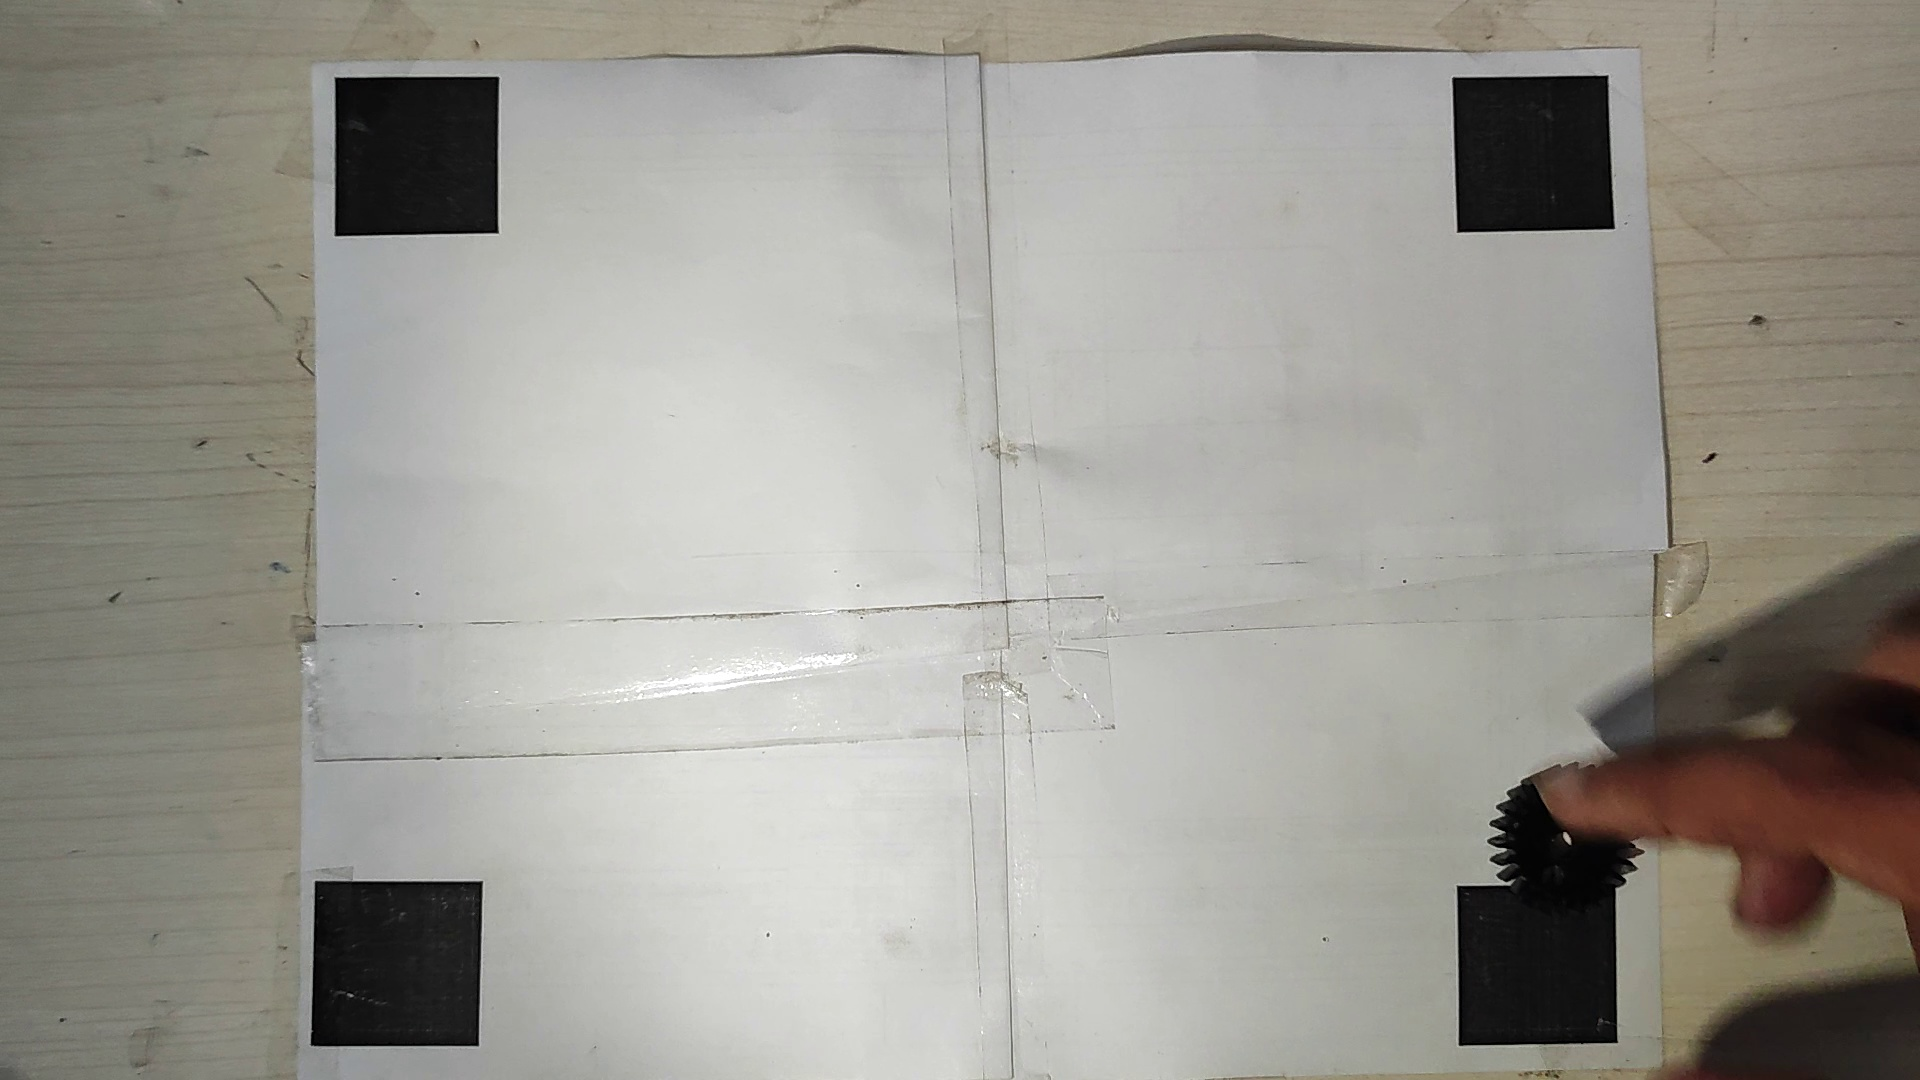Gear: (1487, 772, 1642, 911)
